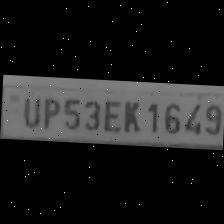1: (141, 98, 161, 134)
3: (80, 96, 102, 132)
4: (182, 98, 202, 134)
5: (58, 94, 82, 132)
6: (160, 98, 182, 134)
9: (202, 99, 222, 135)
E: (100, 96, 120, 134)
K: (118, 97, 142, 135)
P: (38, 93, 60, 130)
U: (16, 92, 40, 129)
